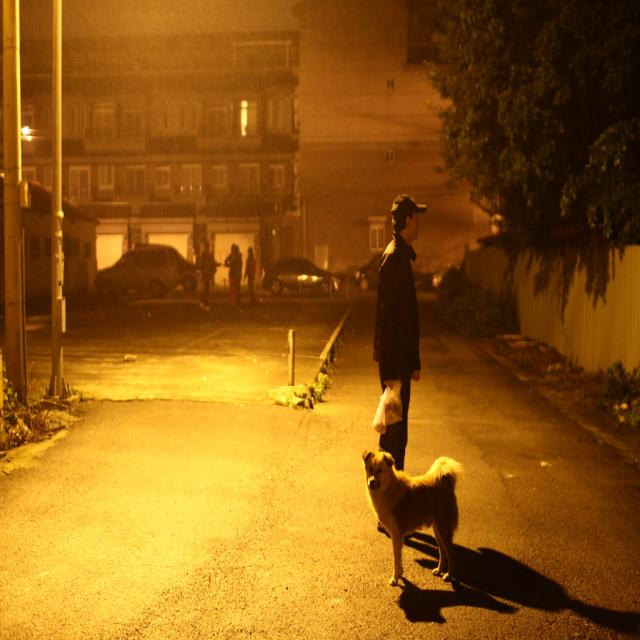Dog: (360, 449, 458, 586)
